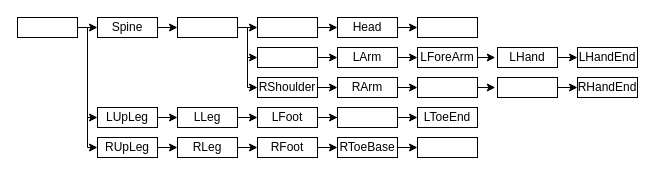
Some shapes in this 655 by 175 pixel diagram are drawn without their labels. Here are the shapes that lost their labels. From the top down, the centre of each, then its label:
At point (47, 27): "Hips".
At point (207, 27): "Spine1".
At point (287, 27): "Neck".
At point (447, 27): "HeadEnd".
At point (287, 57): "LShoulder".
At point (447, 87): "RForeArm".
At point (527, 87): "RHand".
At point (367, 117): "LToeBase".
At point (447, 147): "RToeEnd".
